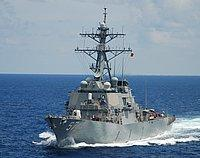MIL_Ship: (44, 7, 176, 145)
